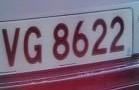2: (90, 14, 110, 62), (108, 12, 126, 55)
6: (70, 17, 92, 63)
8: (50, 19, 72, 66)
G: (22, 24, 45, 68)
V: (1, 24, 22, 68)
